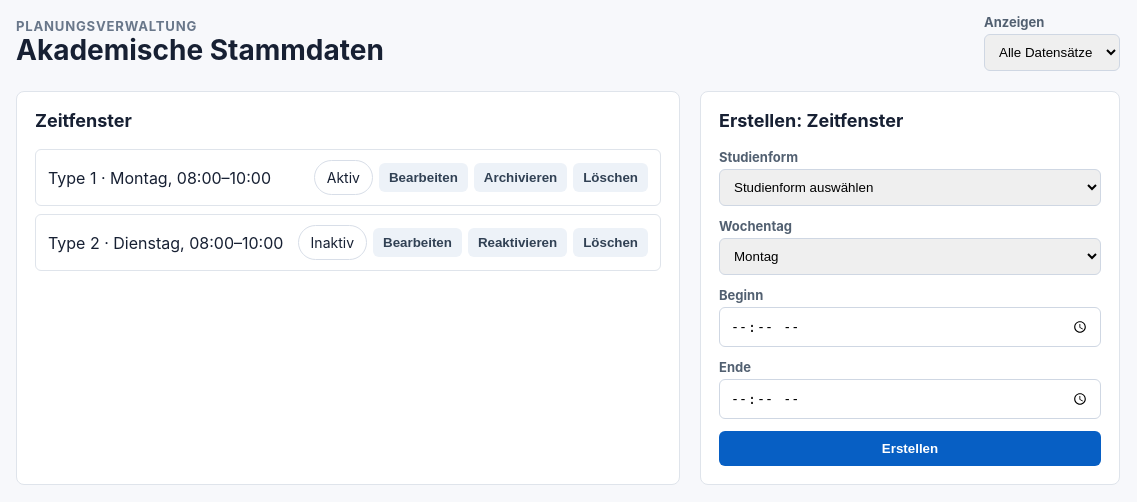
Test: AcademicDataPage › loads Time Windows from every Study Type
Check: the number of list items is 2, box left=35, top=149, right=661, bottom=206; left=35, top=214, right=661, bottom=271
Select "Aktiv" in the dropdown labelled "Anzeigen" at [1052, 52], box left=984, top=34, right=1120, bottom=71
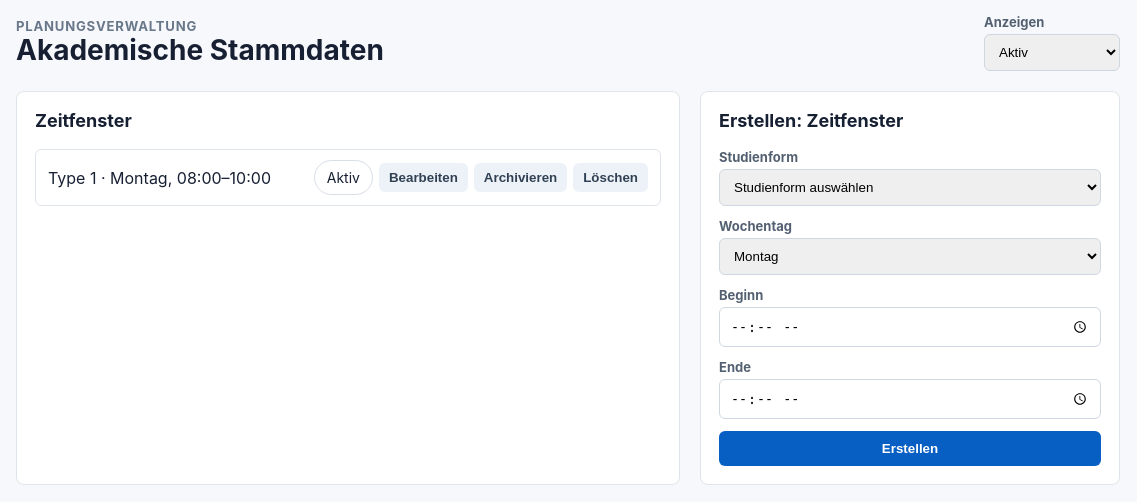
Check: the number of list items is 1, box left=35, top=149, right=661, bottom=206
